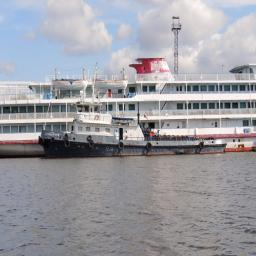tugboat: (39, 66, 230, 163)
